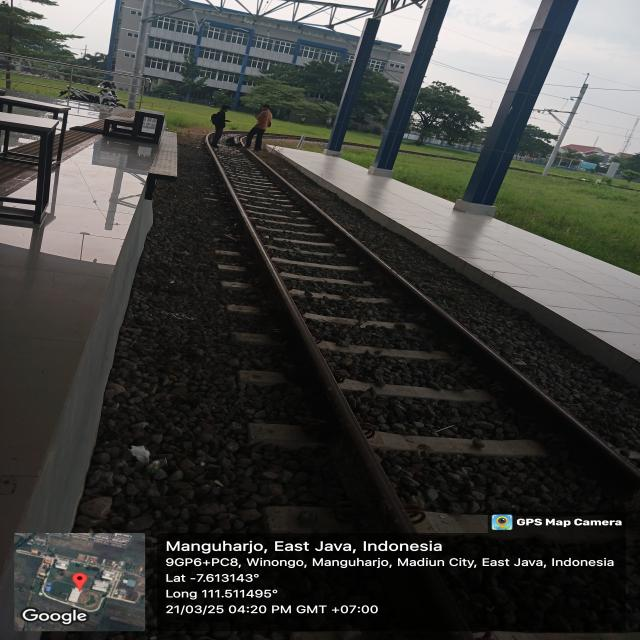rail-detection: (246, 150, 640, 492), (206, 141, 420, 534), (210, 150, 280, 287), (410, 570, 462, 631)
